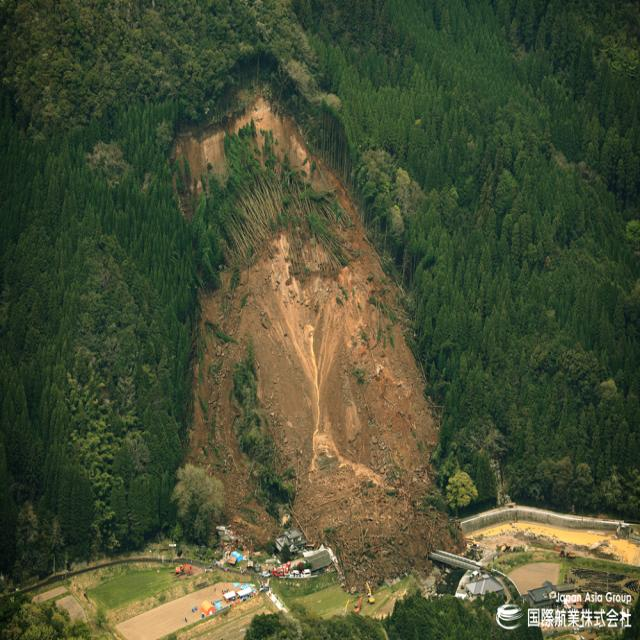Debris-flow: (174, 96, 460, 588)
